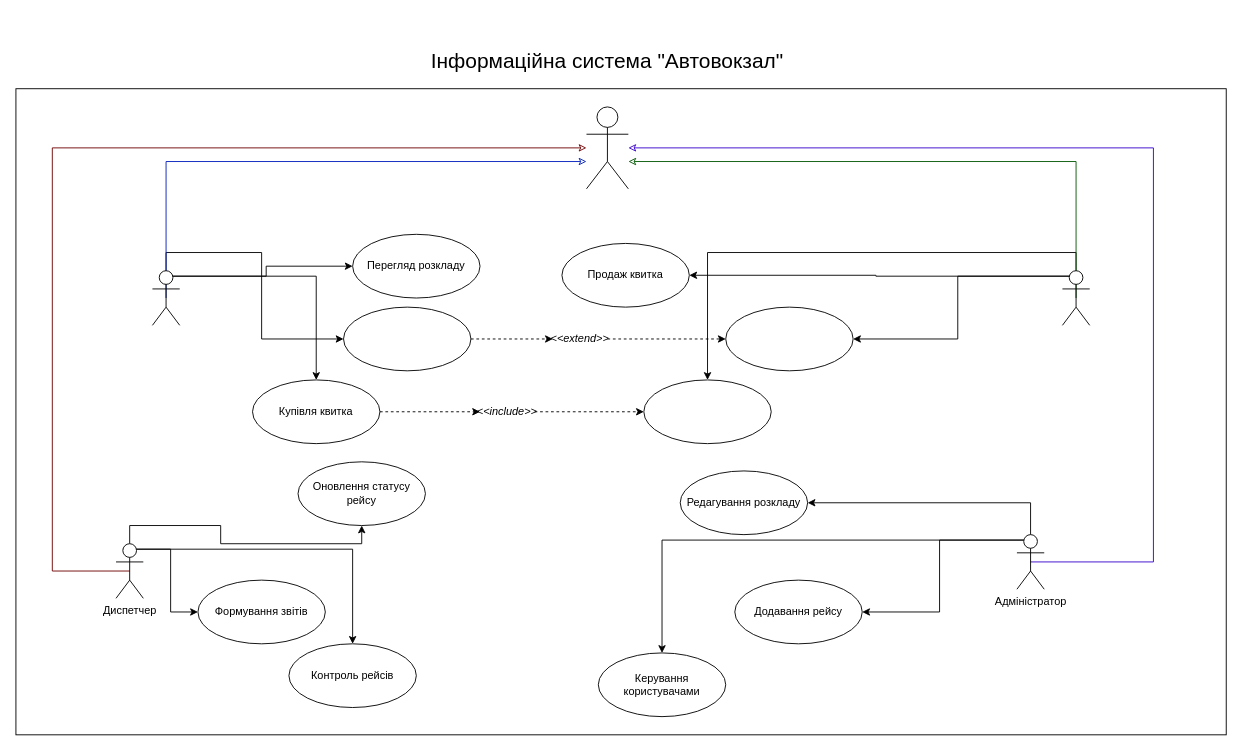
Some shapes in this 1242 by 751 pixel diagram are drawn without their labels. Here are the shapes that lost their labels. From the top down, the box of each, then its label:
(586, 106, 628, 189): Користувач
(152, 270, 180, 325): Пасажир
(1062, 270, 1090, 325): Касир
(343, 306, 471, 371): Бронювання місця
(725, 306, 853, 371): Скасування бронювання
(643, 379, 771, 444): Пошук рейсу
